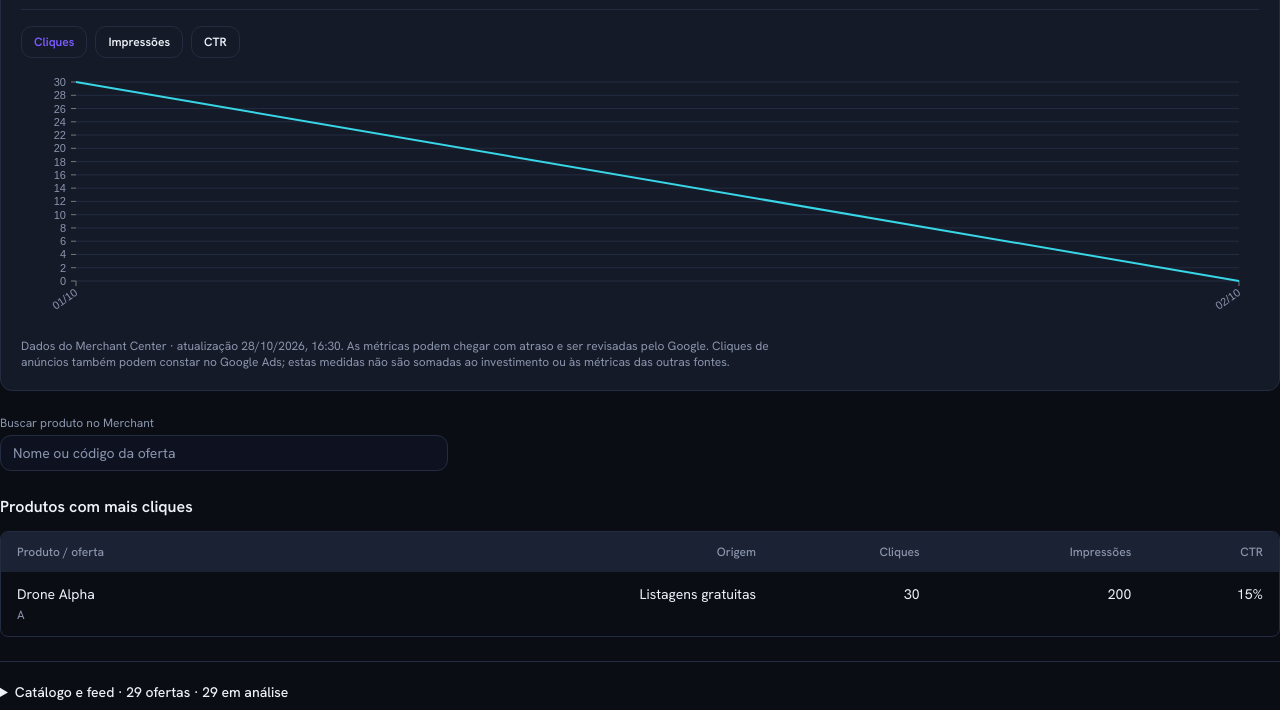
Test case: pending first review is separate from successful feed processing and historical performance
(page scrolled)
What coordinates should you click on to do the following:
click the heading "Catálogo e feed · 29 ofertas · 29 em análise"
I would click on:
 (152, 692)
Its box is [15,683,288,701].
(page scrolled)
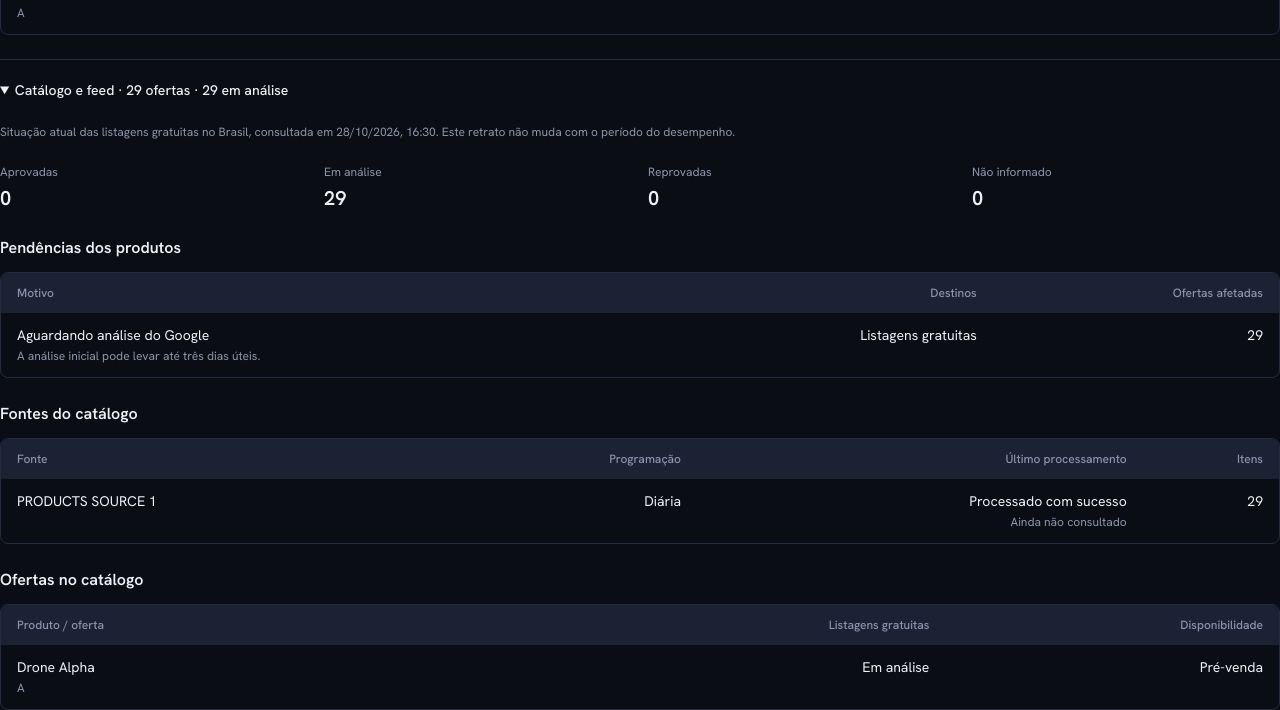
Expected: the text "Aguardando análise do Google" is shown, [17,326,209,344]
Expected: the text "Processado com sucesso" is shown, [969,492,1127,510]
Expected: the text "Este retrato não muda com o período" is shown, [436,124,735,140]
